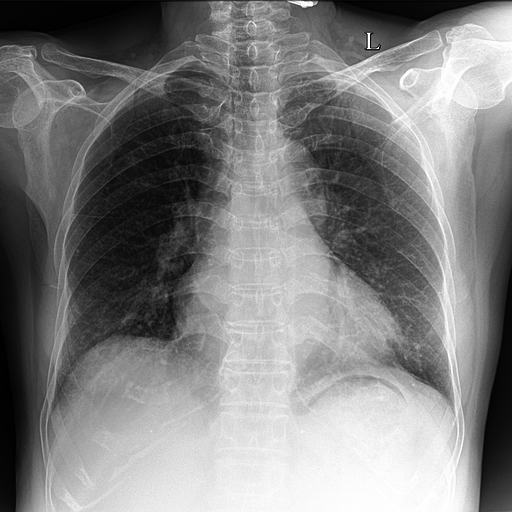Calcification: (296, 45, 383, 109)
Cardiomegaly: (276, 67, 460, 389), (41, 67, 207, 374), (361, 194, 440, 371), (76, 147, 150, 330)
Consolidation: (205, 138, 336, 216)
Lung Opacity: (71, 245, 82, 256)
Nodule/Mass: (143, 228, 422, 403)
